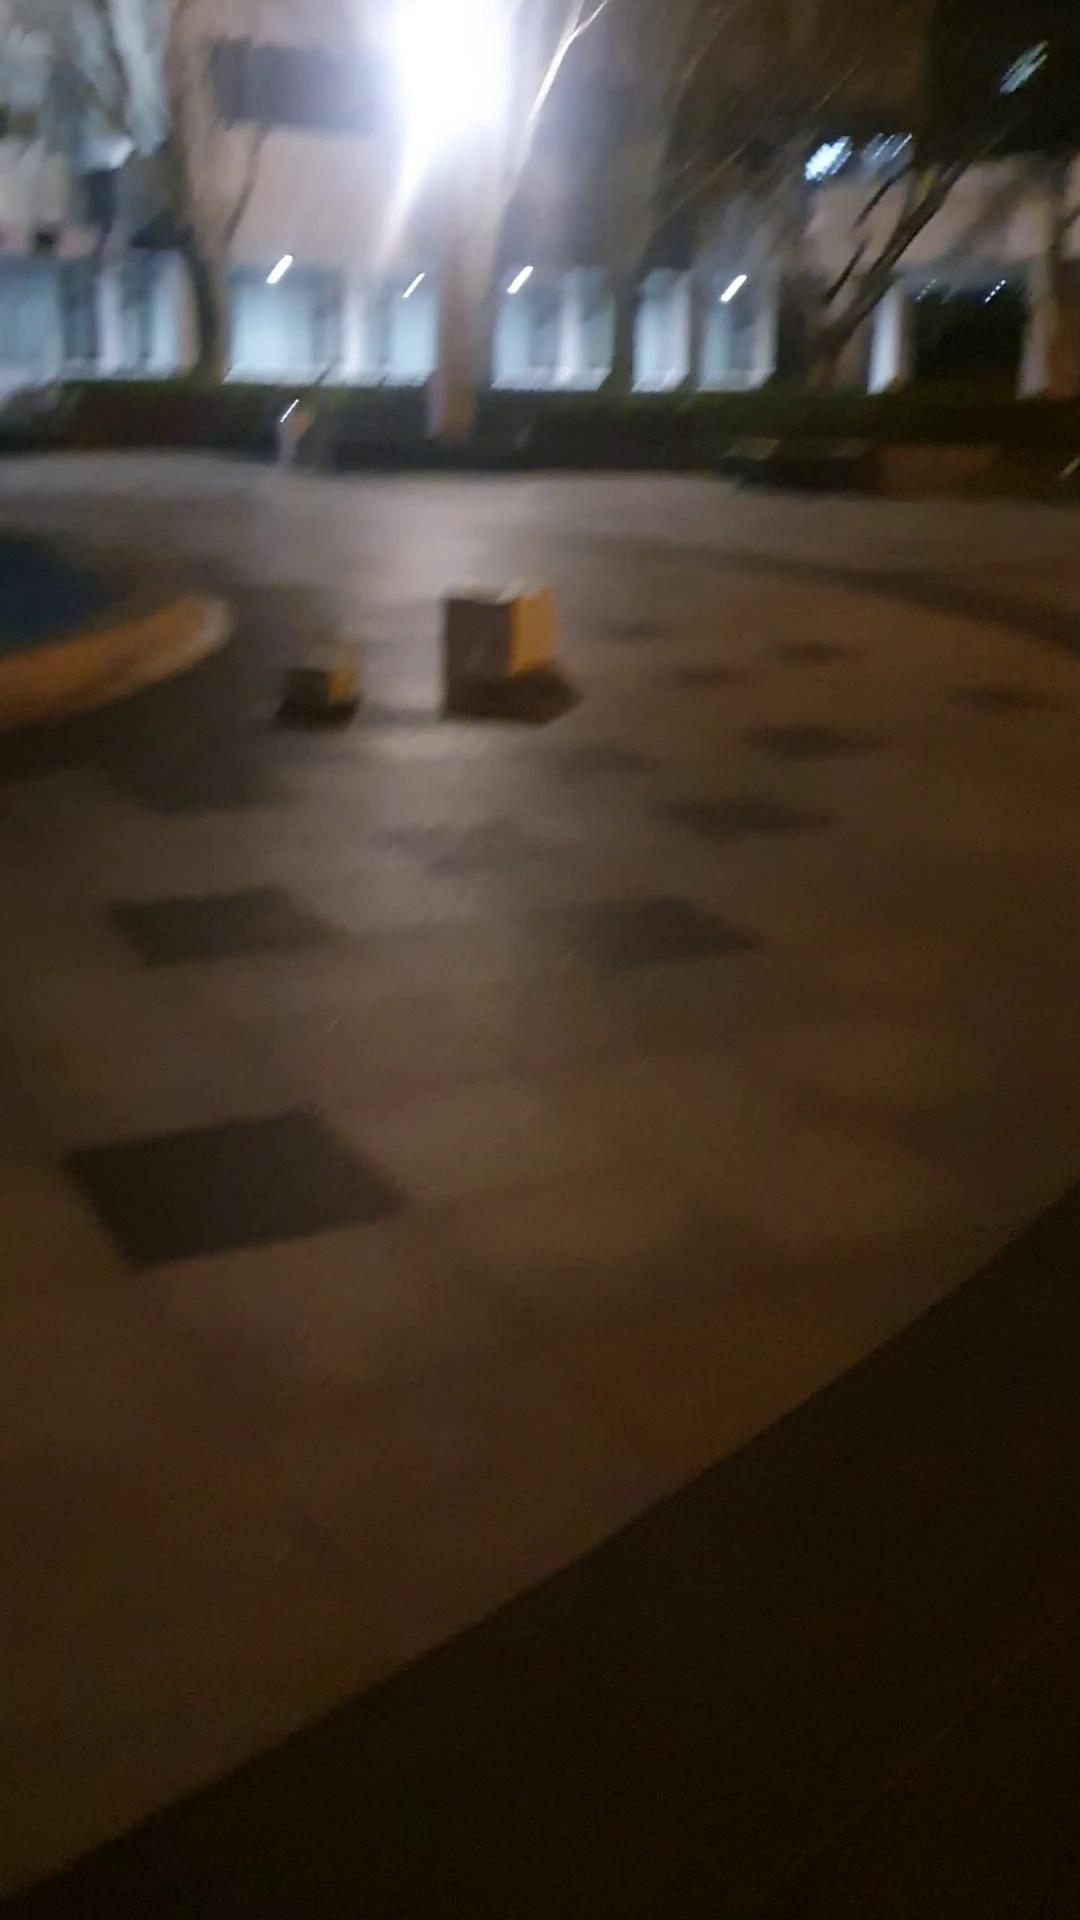Box: (429, 574, 562, 705), (281, 653, 378, 728)
